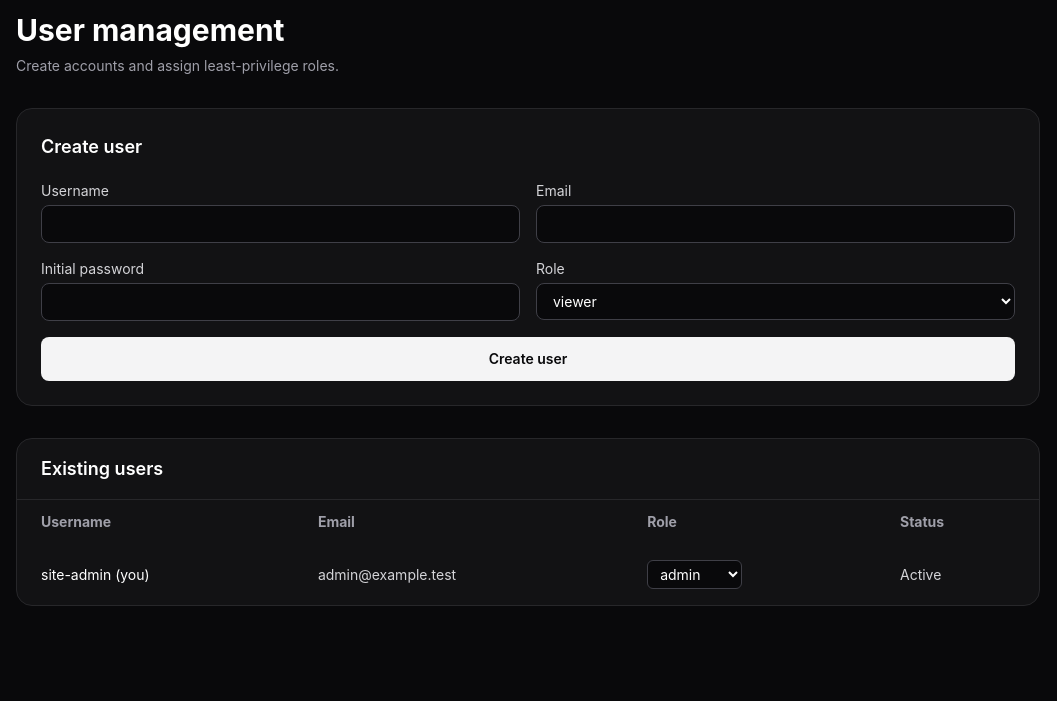
Test case: UsersPage › lets an admin create a selected role and renders user-safe fields
Expected: the text "site-admin (you)" is shown, x1=17 y1=544 x2=294 y2=605
Type "new-operator" into the field labelled "Username" at (280, 224), box x1=41 y1=205 x2=520 y2=243
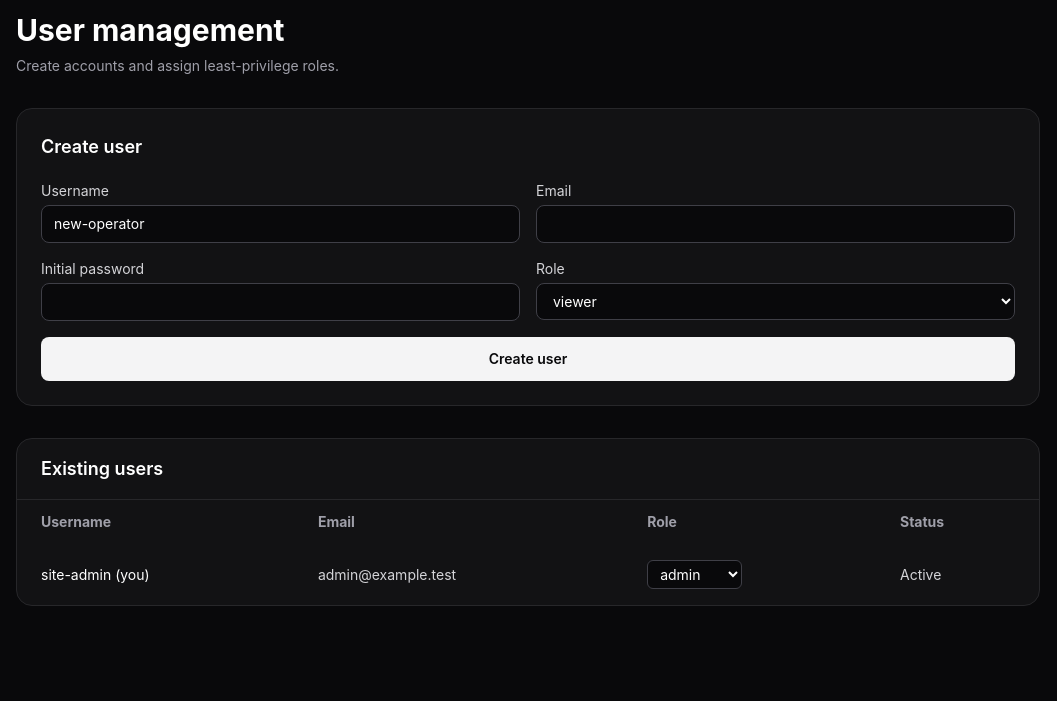
Type "operator@example.test" into the field labelled "Email" at (776, 224), box x1=536 y1=205 x2=1015 y2=243
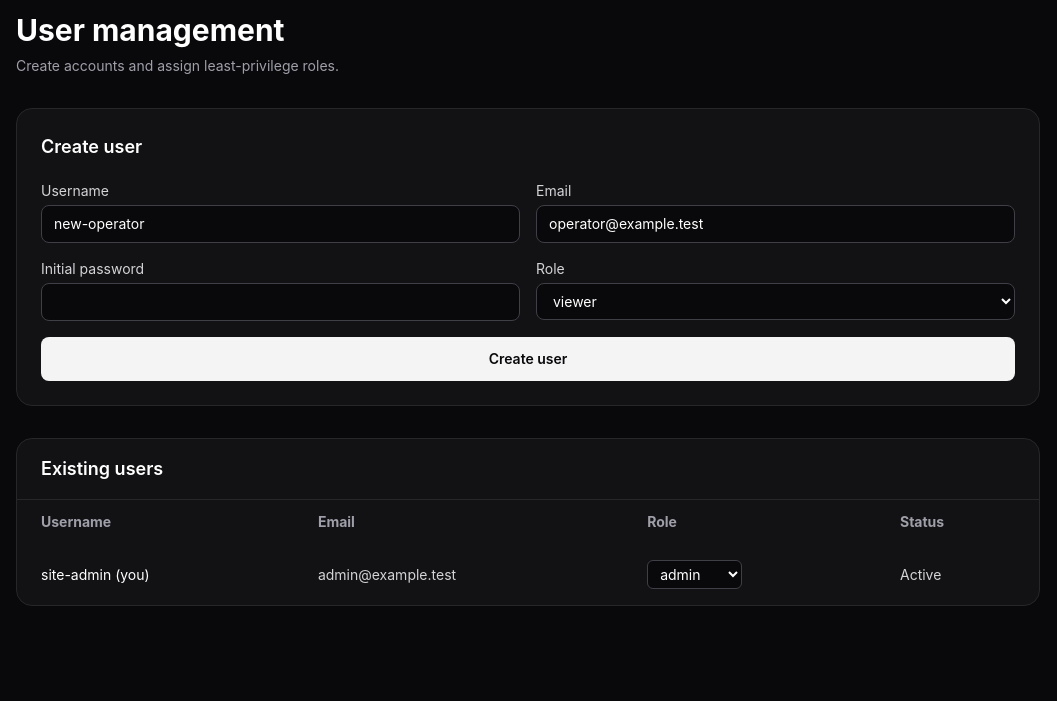
Type "synthetic-initial-password" into the password field labelled "Initial password" at (280, 302), box x1=41 y1=283 x2=520 y2=321
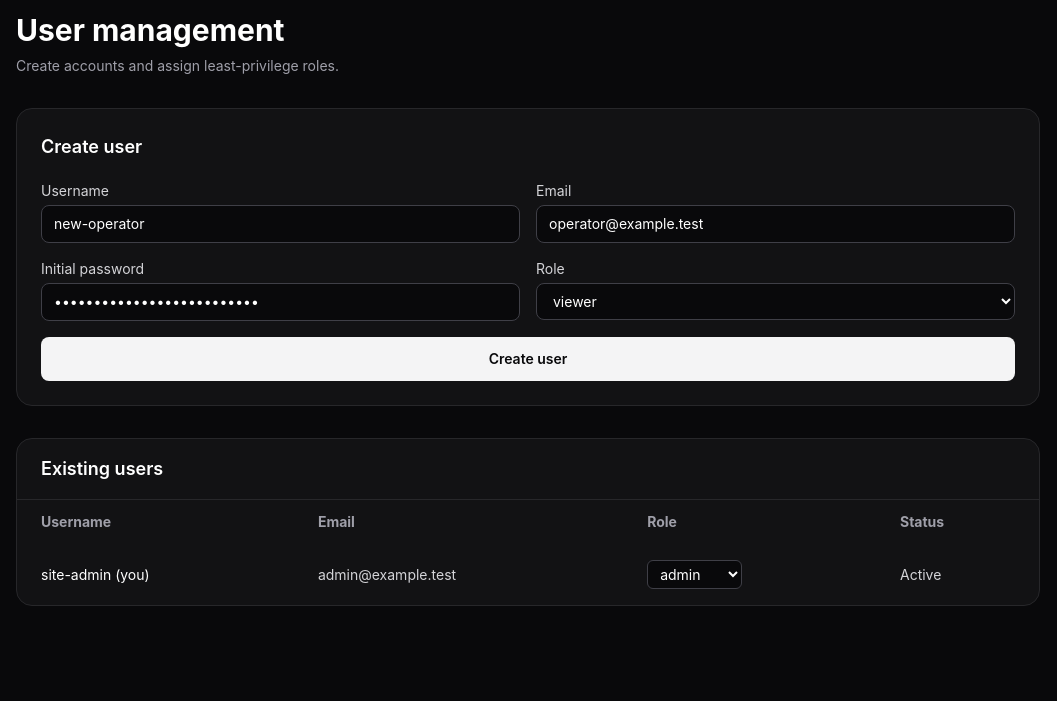
Select "operator" in the dropdown labelled "Role" at (776, 302), box x1=536 y1=283 x2=1015 y2=320
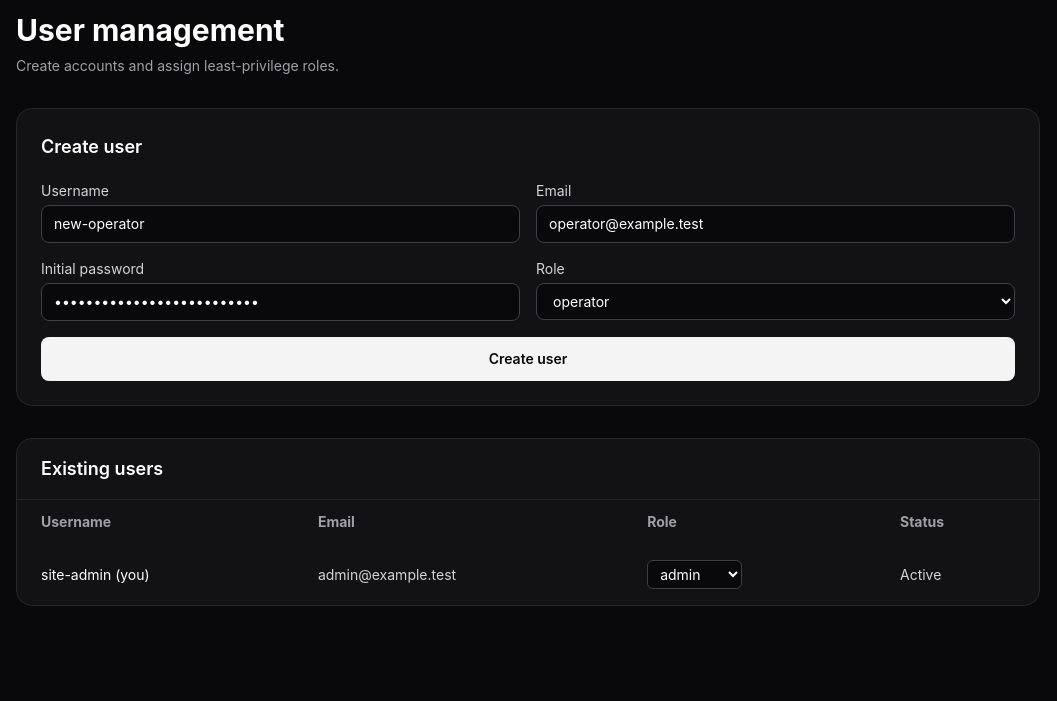
Click the button "Create user" at (528, 359), box x1=41 y1=337 x2=1015 y2=381
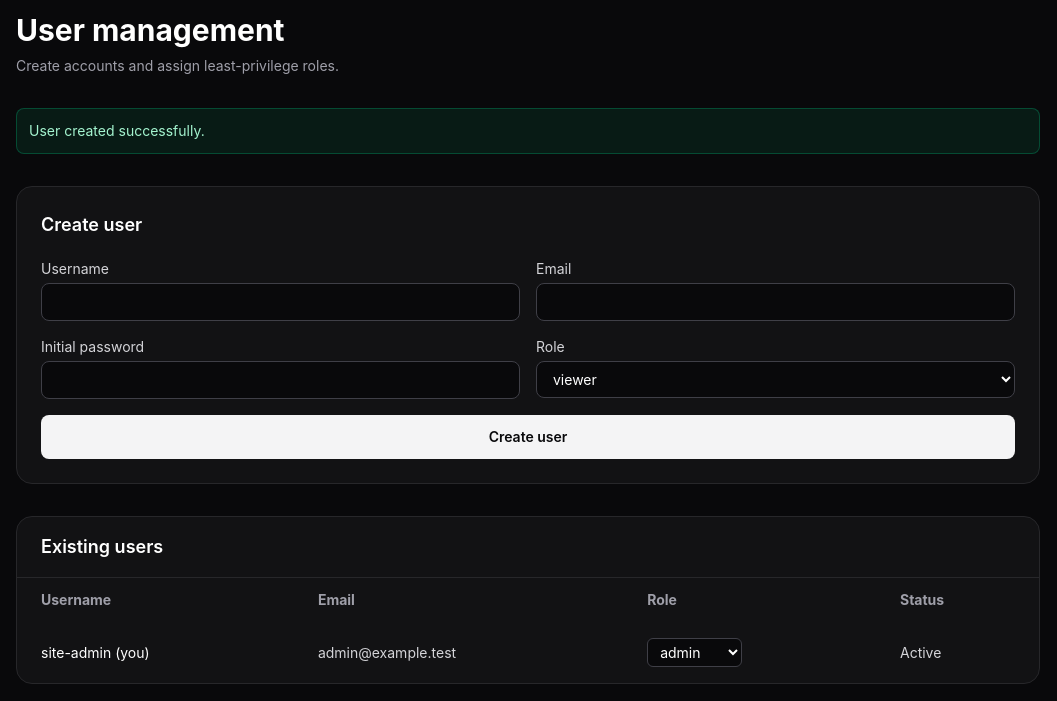
Expected: the message reads "User created successfully.", x1=29 y1=122 x2=205 y2=139
